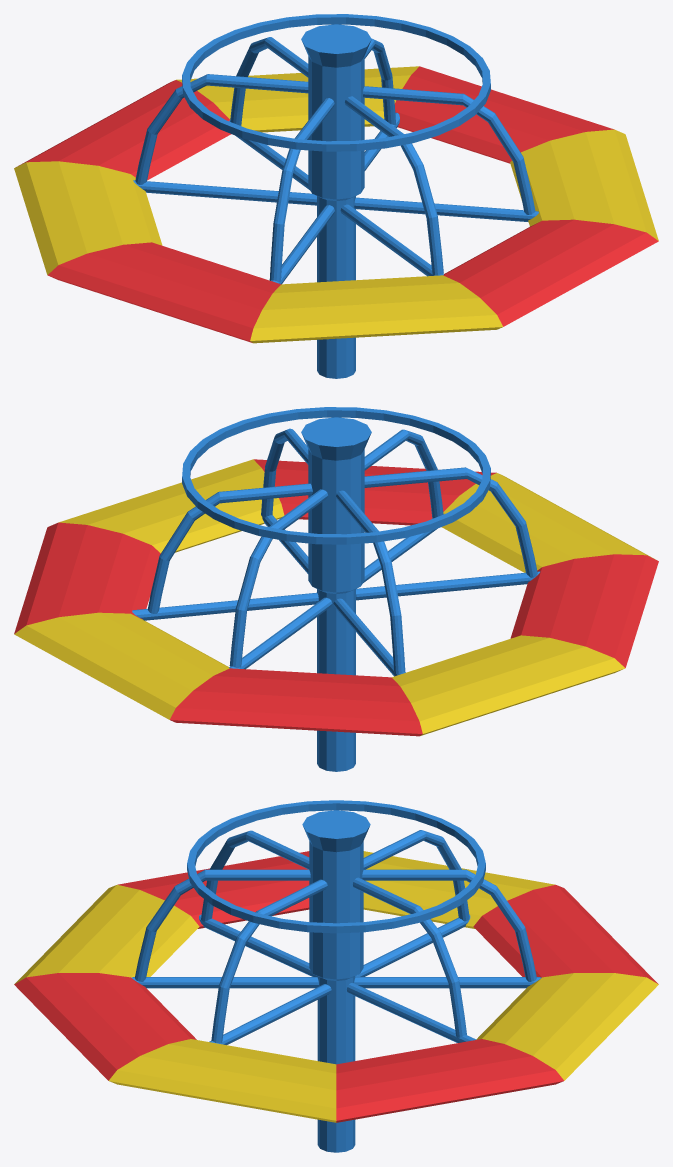
Rendered from giragira.fbx.
3 views of the same model, one above another, from view 1: azimuth 30°, elevation 25°; view 2: azimuth 150°, elevation 25°; view 3: azimuth 270°, elevation 25° (orthographic). The views are drawn at different scales.
Parts seen in each view (by area): view 1: Cylinder; view 2: Cylinder; view 3: Cylinder.
Boxes of the visible parts, box(x1,y1,x2,y2) form: Cylinder: box(14, 14, 658, 378); Cylinder: box(14, 407, 658, 771); Cylinder: box(14, 800, 658, 1152).
Size of the model in its own units: 455 by 249 by 455.
